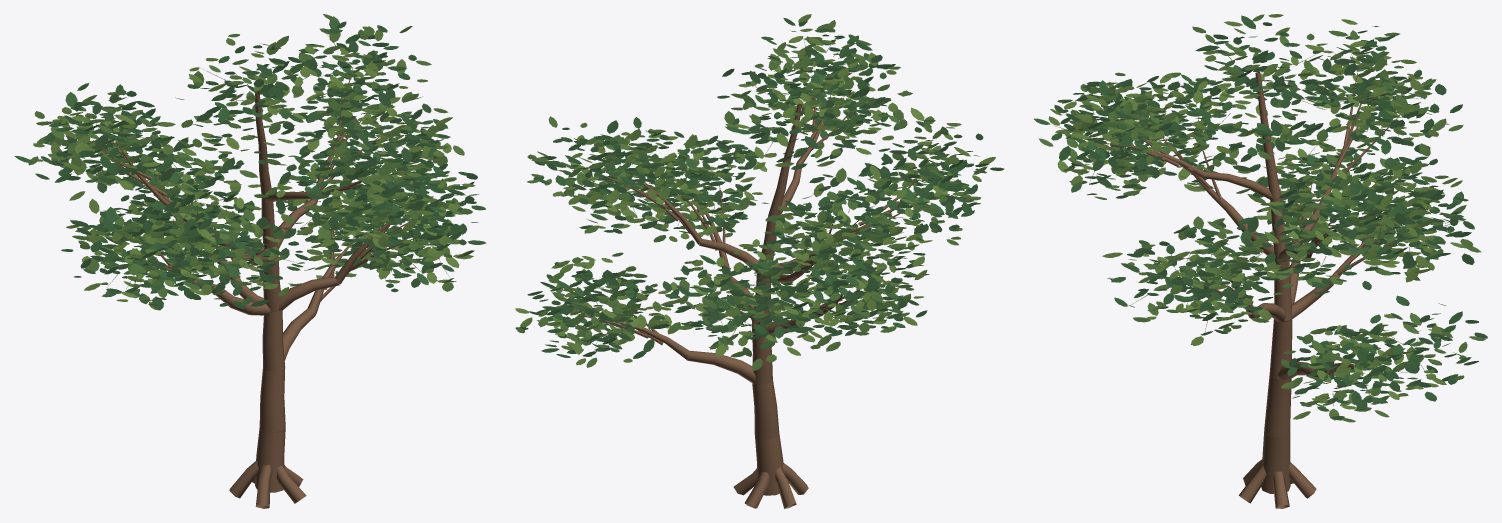
File: Arbousier_1_High.fbx
The picture shows the model from 3 angles, left to right: view 1: azimuth 30°, elevation 25°; view 2: azimuth 150°, elevation 25°; view 3: azimuth 270°, elevation 25°; orthographic projection. The views are drawn at different scales.
Visible parts, largest first — view 1: Arbousier_1_High; view 2: Arbousier_1_High; view 3: Arbousier_1_High.
Part boxes in pixels (x1=…): Arbousier_1_High: x1=14, y1=14, x2=486, y2=508; Arbousier_1_High: x1=515, y1=14, x2=1004, y2=508; Arbousier_1_High: x1=1034, y1=14, x2=1487, y2=508.
Size of the model in its own units: 528 by 575 by 509.
